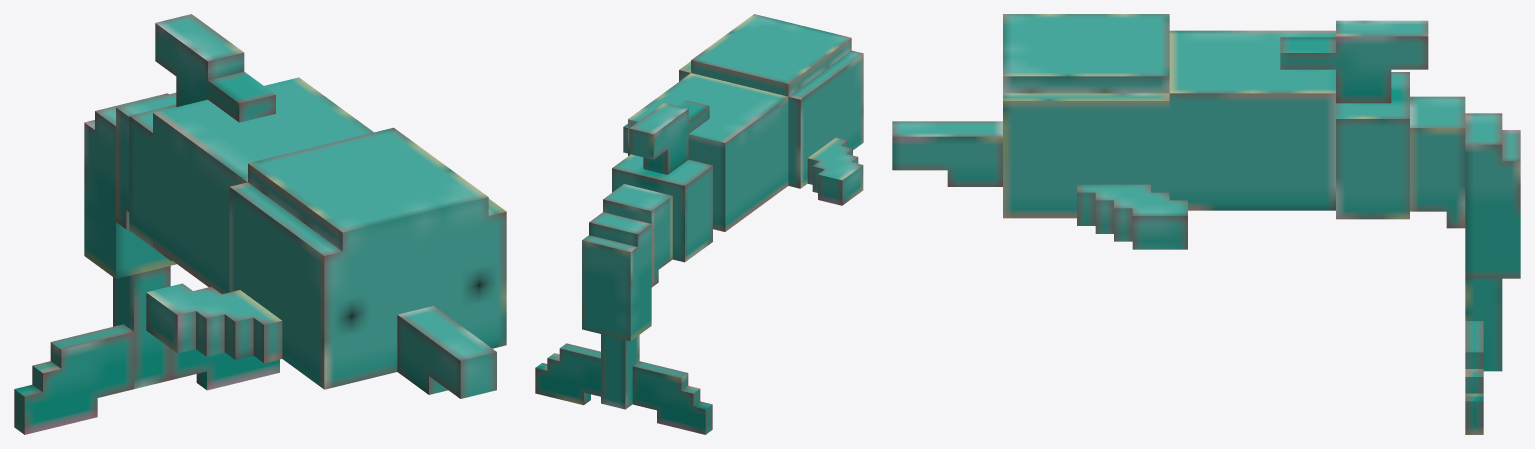
The model's file is Dolphin-1af9db1e.glb.
3 views of the same model, side by side, from view 1: azimuth 30°, elevation 25°; view 2: azimuth 150°, elevation 25°; view 3: azimuth 270°, elevation 25° (orthographic). The views are drawn at different scales.
Visible parts, largest first — view 1: Dolphin_Head_BindPose, Dolphin_Fin_001_BindPose, Dolphin_Tail.004_BindPose, Dolphin_R_Wing.001_BindPose, Dolphin_Fin_BindPose, Dolphin_Nose_BindPose, Dolphin_Tail.002_BindPose, Dolphin_Tail.003_BindPose, Dolphin_Tail_BindPose, Dolphin_Tail.005_BindPose, Dolphin_Tail.001_BindPose; view 2: Dolphin_Head_BindPose, Dolphin_Fin_001_BindPose, Dolphin_Tail.002_BindPose, Dolphin_Tail_BindPose, Dolphin_Tail.004_BindPose, Dolphin_Fin_BindPose, Dolphin_Tail.005_BindPose, Dolphin_Tail.001_BindPose, Dolphin_R_Wing.001_BindPose, Dolphin_Tail.003_BindPose; view 3: Dolphin_Head_BindPose, Dolphin_Fin_001_BindPose, Dolphin_Tail_BindPose, Dolphin_Tail.002_BindPose, Dolphin_Fin_BindPose, Dolphin_Tail.001_BindPose, Dolphin_Nose_BindPose, Dolphin_L_Wing.001_BindPose, Dolphin_Tail.003_BindPose, Dolphin_Tail.005_BindPose.
Boxes of the visible parts, left/top/right/bottom form: Dolphin_Head_BindPose: left=229, top=127, right=506, bottom=389; Dolphin_Fin_001_BindPose: left=153, top=77, right=373, bottom=294; Dolphin_Tail.004_BindPose: left=14, top=324, right=133, bottom=434; Dolphin_R_Wing.001_BindPose: left=146, top=283, right=282, bottom=363; Dolphin_Fin_BindPose: left=155, top=14, right=275, bottom=122; Dolphin_Nose_BindPose: left=397, top=306, right=496, bottom=398; Dolphin_Tail.002_BindPose: left=84, top=93, right=176, bottom=278; Dolphin_Tail.003_BindPose: left=113, top=266, right=170, bottom=388; Dolphin_Tail_BindPose: left=129, top=104, right=176, bottom=260; Dolphin_Tail.005_BindPose: left=170, top=349, right=279, bottom=390; Dolphin_Tail.001_BindPose: left=116, top=92, right=176, bottom=229; Dolphin_Head_BindPose: left=679, top=14, right=863, bottom=188; Dolphin_Fin_001_BindPose: left=628, top=73, right=788, bottom=231; Dolphin_Tail.002_BindPose: left=582, top=212, right=651, bottom=341; Dolphin_Tail_BindPose: left=612, top=154, right=712, bottom=262; Dolphin_Tail.004_BindPose: left=632, top=361, right=712, bottom=434; Dolphin_Fin_BindPose: left=629, top=100, right=709, bottom=174; Dolphin_Tail.005_BindPose: left=535, top=343, right=600, bottom=405; Dolphin_Tail.001_BindPose: left=603, top=184, right=672, bottom=287; Dolphin_R_Wing.001_BindPose: left=807, top=138, right=863, bottom=205; Dolphin_Tail.003_BindPose: left=601, top=334, right=639, bottom=409; Dolphin_Head_BindPose: left=1003, top=14, right=1169, bottom=218; Dolphin_Fin_001_BindPose: left=1169, top=30, right=1335, bottom=210; Dolphin_Tail_BindPose: left=1336, top=72, right=1409, bottom=219; Dolphin_Tail.002_BindPose: left=1465, top=113, right=1520, bottom=278; Dolphin_Fin_BindPose: left=1280, top=20, right=1428, bottom=103; Dolphin_Tail.001_BindPose: left=1410, top=96, right=1465, bottom=228; Dolphin_Nose_BindPose: left=892, top=121, right=1002, bottom=186; Dolphin_L_Wing.001_BindPose: left=1077, top=184, right=1187, bottom=249; Dolphin_Tail.003_BindPose: left=1465, top=278, right=1502, bottom=371; Dolphin_Tail.005_BindPose: left=1465, top=321, right=1483, bottom=434.
Bounding box in the file's own units: 1.8 × 2.1 × 3.4.
1 material, 1 textured.
